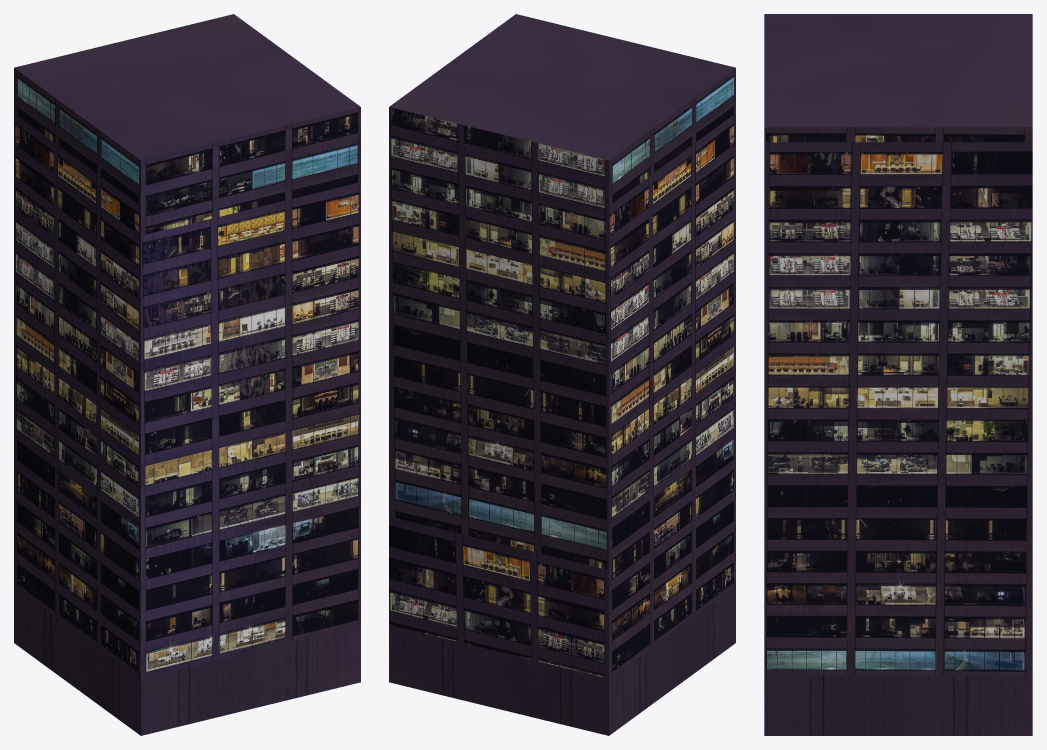
The model's file is night building.fbx.
3 views of the same model, side by side, from view 1: azimuth 30°, elevation 25°; view 2: azimuth 150°, elevation 25°; view 3: azimuth 270°, elevation 25° (orthographic). The views are drawn at different scales.
Parts seen in each view (by area): view 1: Cube.021; view 2: Cube.021; view 3: Cube.021.
Part boxes in pixels (x1,y1,x2,y2): Cube.021: [14, 14, 360, 735]; Cube.021: [389, 14, 735, 735]; Cube.021: [764, 14, 1032, 735].
Bounding box in the file's own units: 800 × 2000 × 800.
